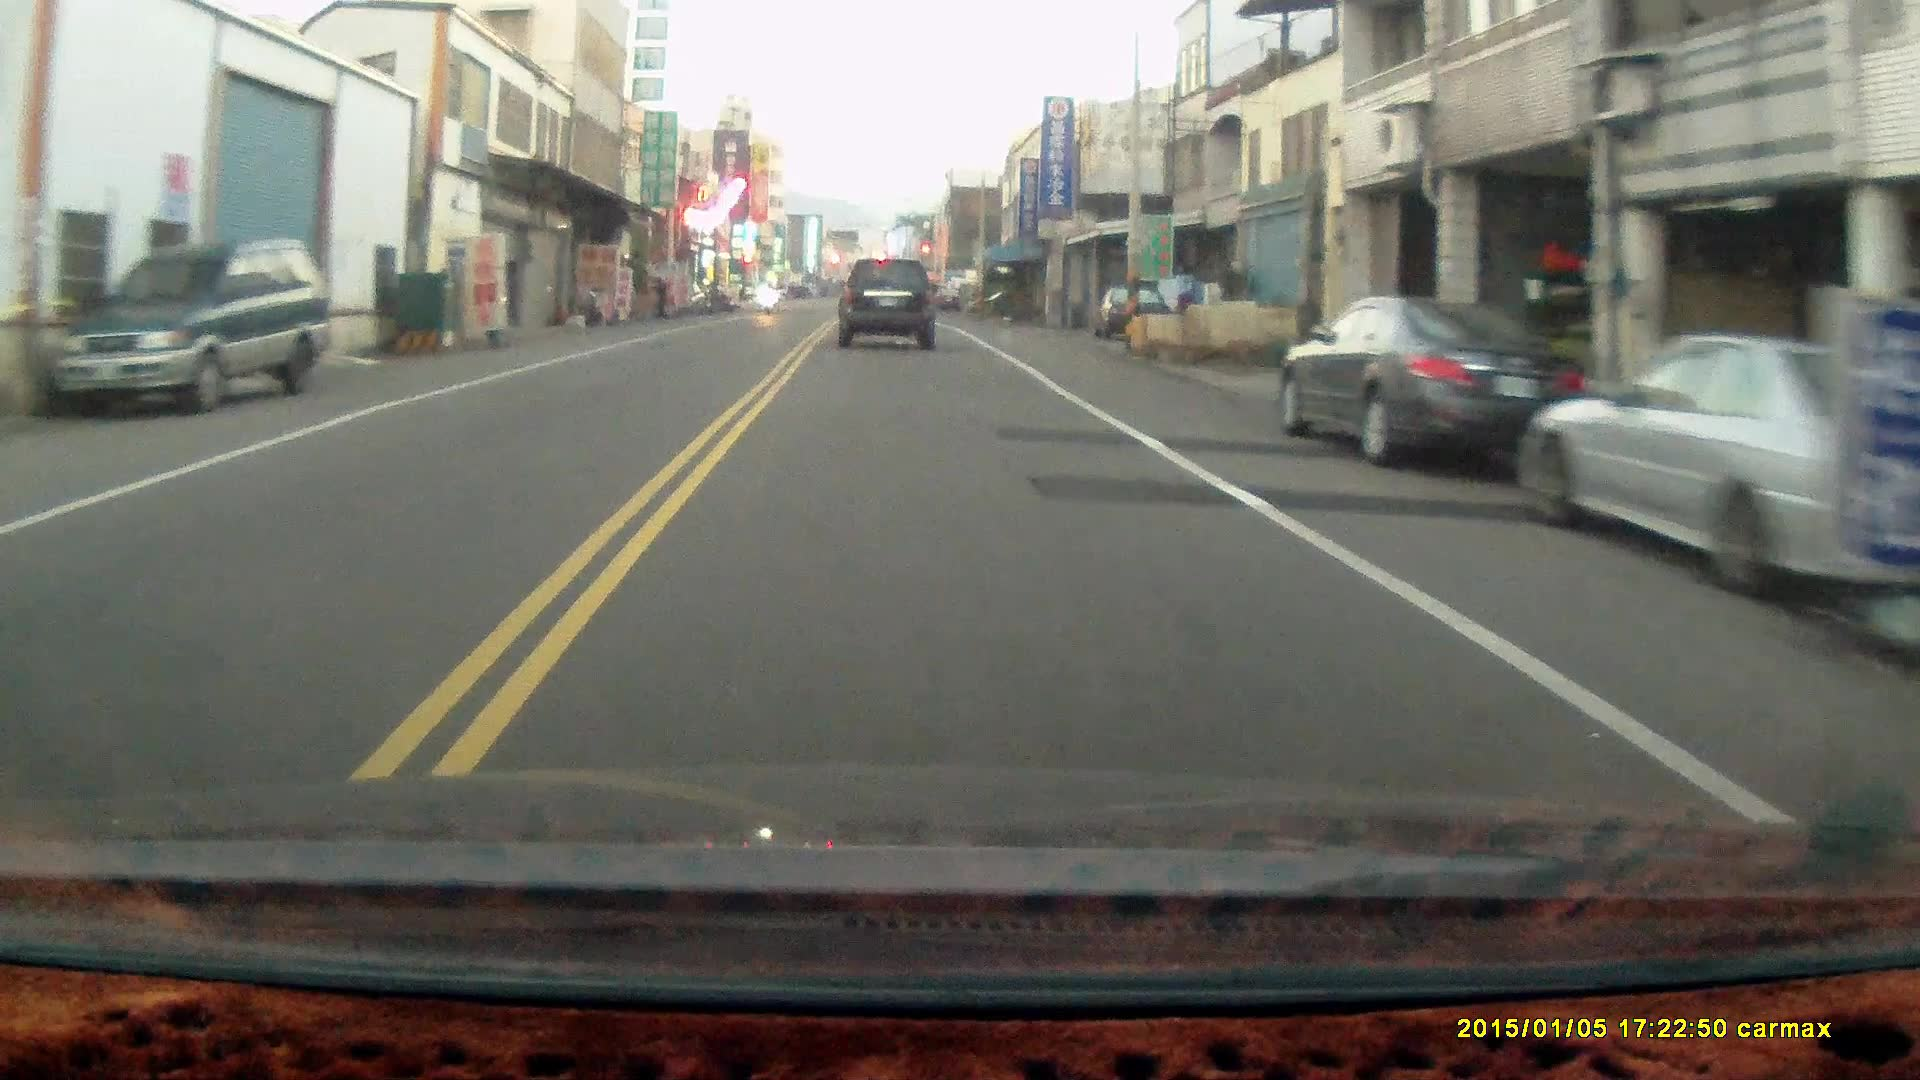pedestrian: (648, 272, 668, 323)
vehicle: (1517, 333, 1920, 611), (1278, 295, 1597, 470), (41, 237, 328, 419), (837, 257, 938, 351)
